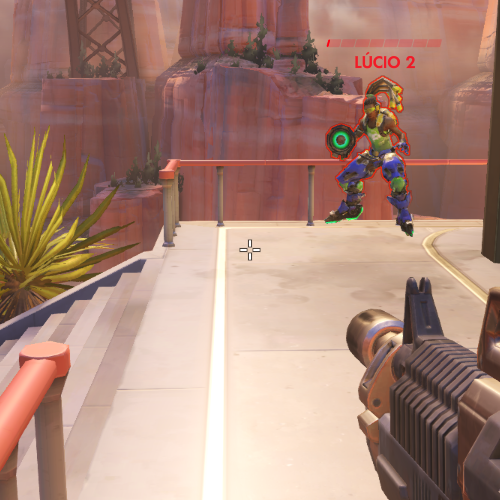hpbar: (326, 39, 442, 47)
